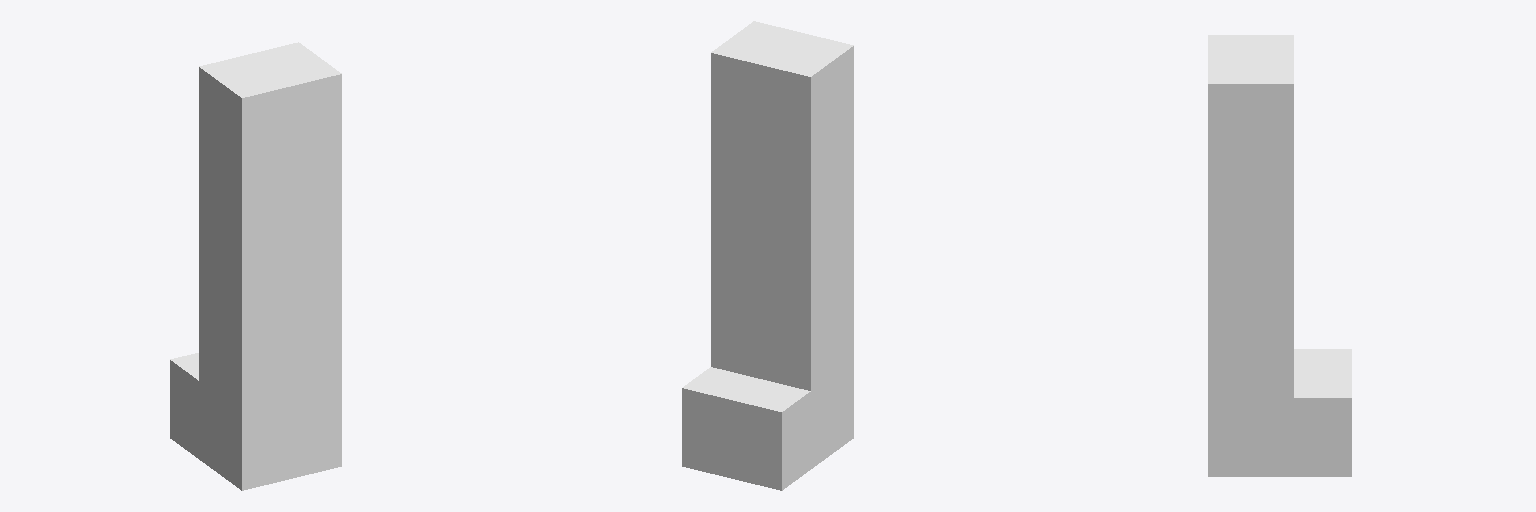
The model's file is hard-4.obj.
The picture shows the model from 3 angles: view 1: azimuth 30°, elevation 25°; view 2: azimuth 150°, elevation 25°; view 3: azimuth 270°, elevation 25°; orthographic projection.
Visible parts, largest first — view 1: object 1; view 2: object 1; view 3: object 1.
Boxes of the visible parts, x1,y1,x2,y2 form: object 1: [170, 42, 341, 490]; object 1: [682, 21, 853, 490]; object 1: [1208, 35, 1351, 476].
Size of the model in its own units: 0.4 by 1.5 by 0.5.